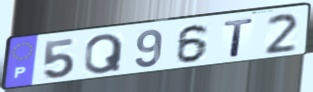2: (265, 12, 301, 56)
5: (42, 36, 78, 80)
6: (175, 23, 211, 64)
9: (134, 29, 164, 69)
Q: (83, 32, 125, 76)
T: (221, 17, 256, 59)
